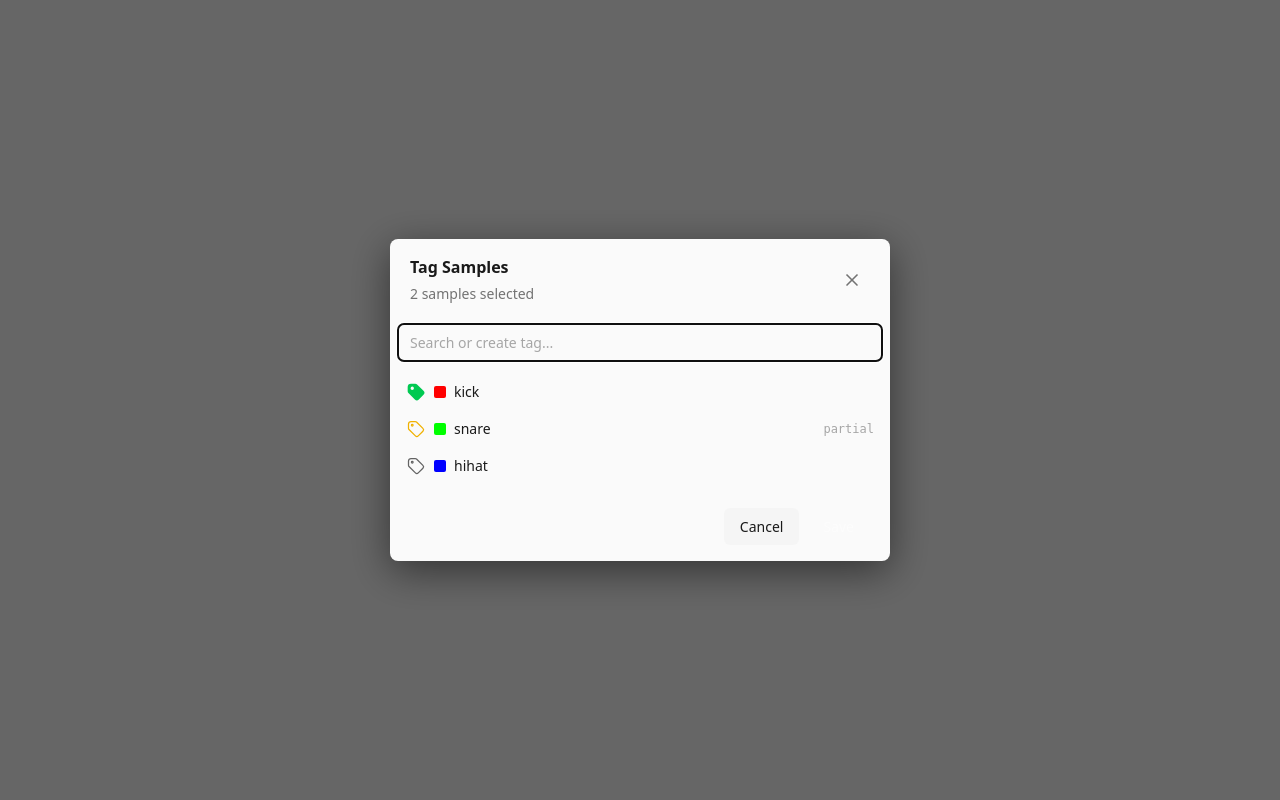
it: TagPopup › Search functionality › filters tags by search query
In the field with placeholder "Search or create tag...": (640, 342) [398,324,882,361], type "kick"
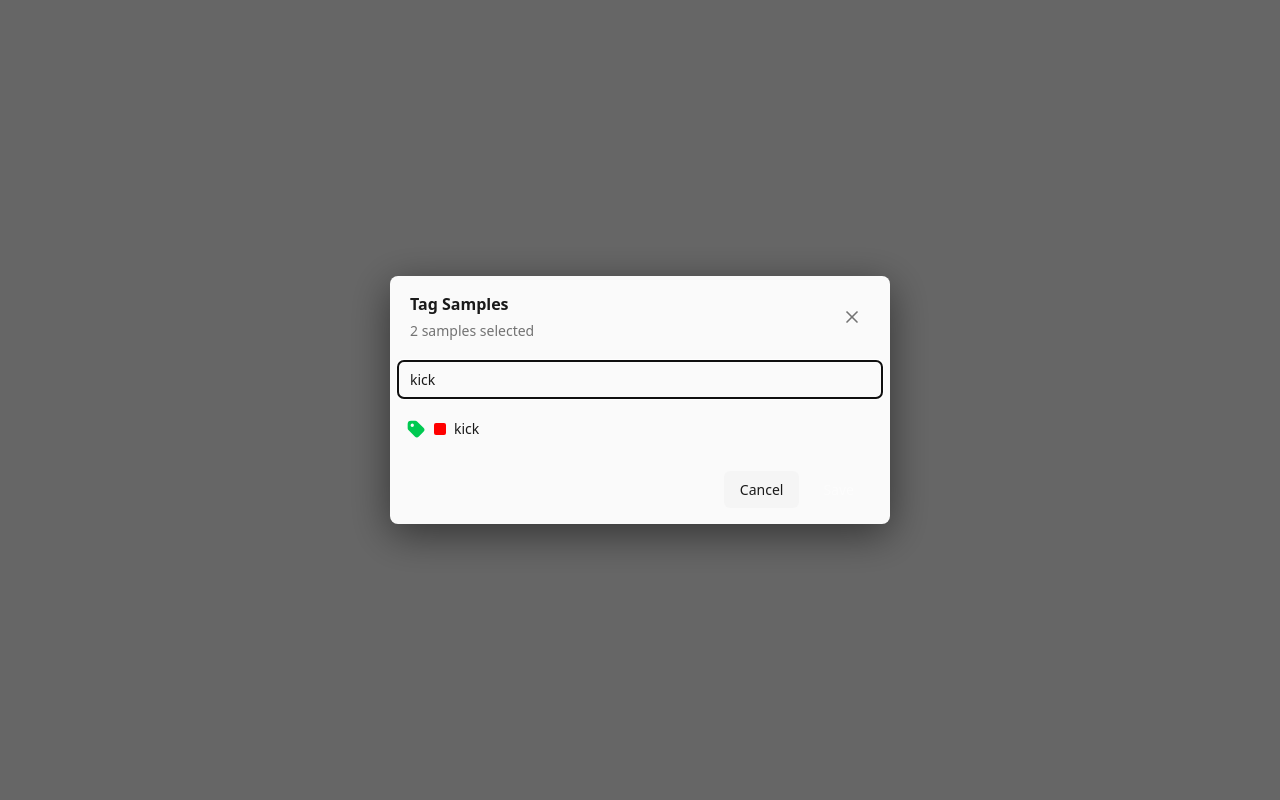
Expected: the text "kick" is shown, [434,419,479,438]
Expected: the text "snare" is gone
Expected: the text "hihat" is gone
